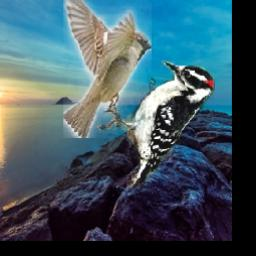Sparrow: (63, 0, 152, 139)
Woodpecker: (96, 60, 215, 187)
